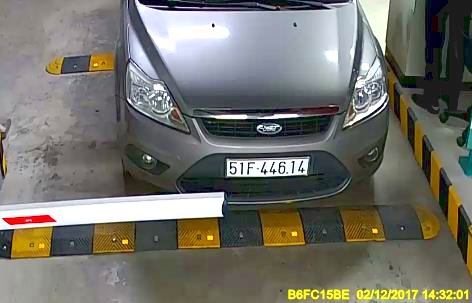plate: (225, 154, 311, 179)
